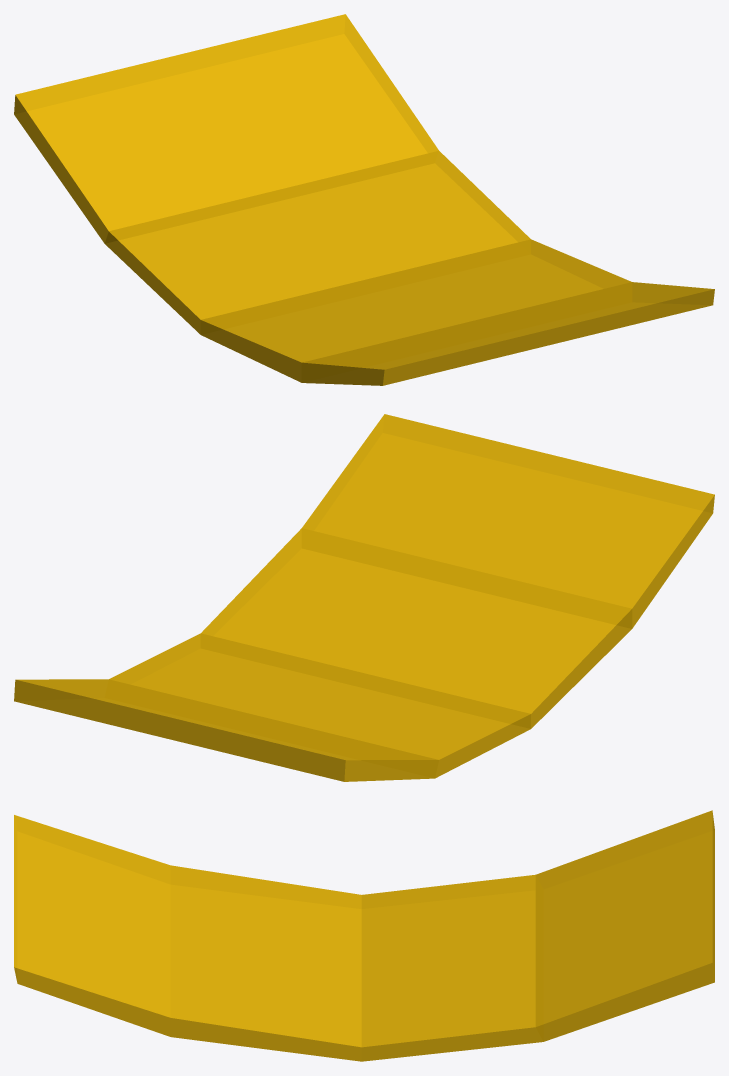
Rendered from SM_Bld_Ropebridge_Net_01_Collision.fbx.
3 views of the same model, one above another, from view 1: azimuth 30°, elevation 25°; view 2: azimuth 150°, elevation 25°; view 3: azimuth 270°, elevation 25° (orthographic). The views are drawn at different scales.
Parts seen in each view (by area): view 1: SM_Bld_Ropebridge_Net_01_Collision; view 2: SM_Bld_Ropebridge_Net_01_Collision; view 3: SM_Bld_Ropebridge_Net_01_Collision.
Boxes of the visible parts, x1,y1,x2,y2 form: SM_Bld_Ropebridge_Net_01_Collision: [14, 14, 714, 385]; SM_Bld_Ropebridge_Net_01_Collision: [14, 414, 714, 781]; SM_Bld_Ropebridge_Net_01_Collision: [14, 810, 714, 1061].
Size of the model in its own units: 259 by 78.49 by 504.
